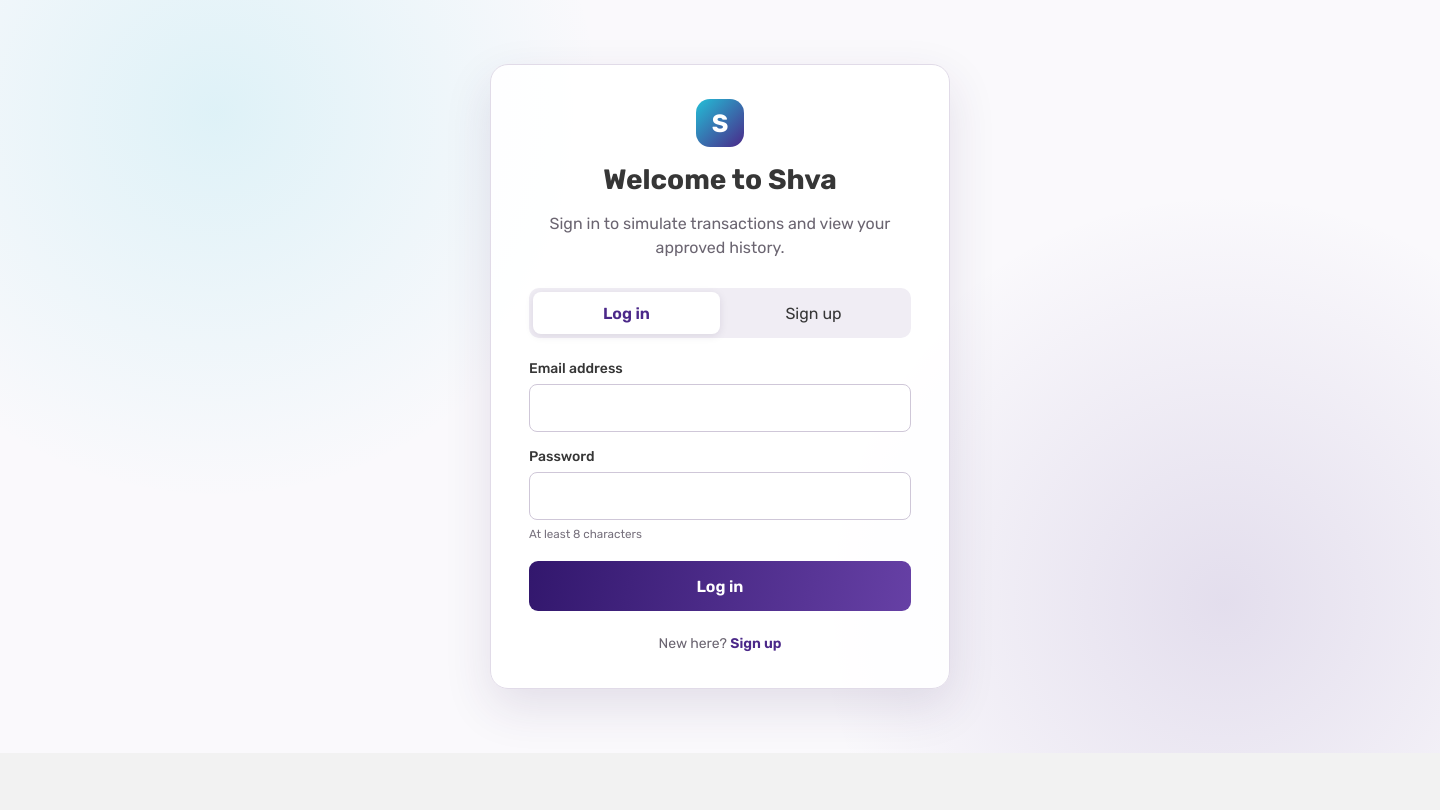
AuthScreen › shows a specific message when the email is already registered
Click the tab "Sign up": (814, 313) left=720, top=292, right=907, bottom=334
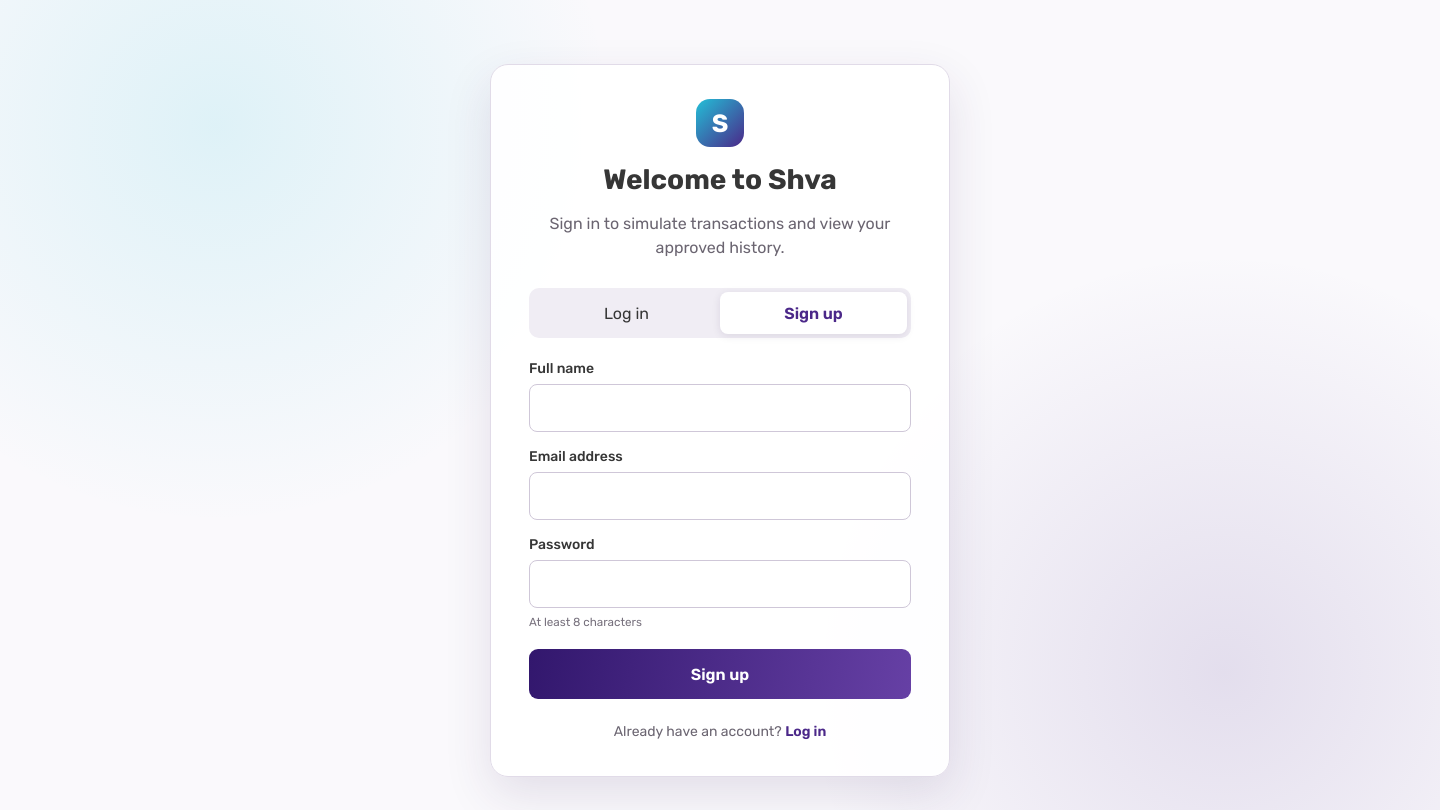
In the field labelled "Full name": (720, 408) left=529, top=384, right=911, bottom=432, type "Existing User"
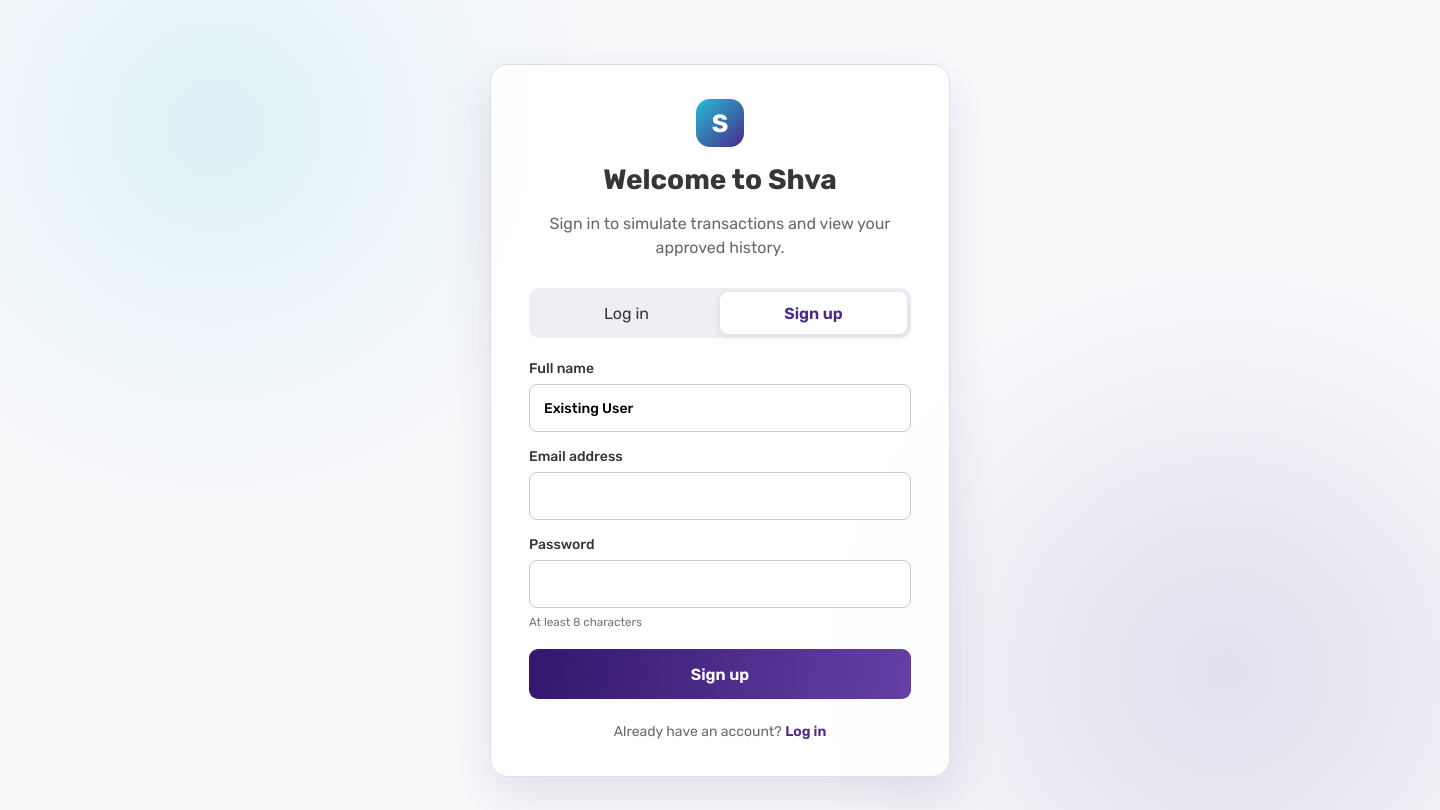
In the field labelled "Email address": (720, 496) left=529, top=472, right=911, bottom=520, type "existing@example.com"
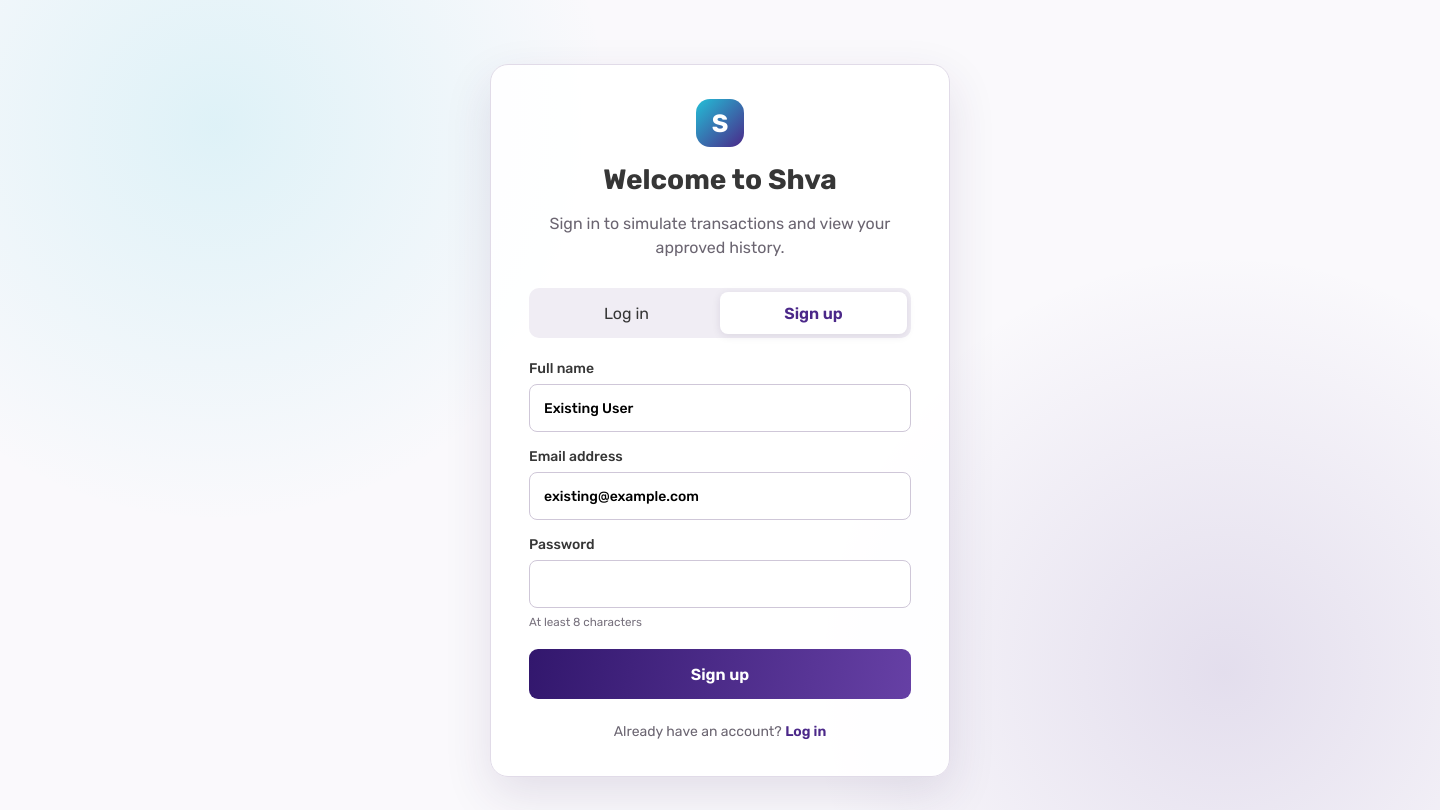
In the password field labelled "Password": (720, 584) left=529, top=560, right=911, bottom=608, type "Password123!"
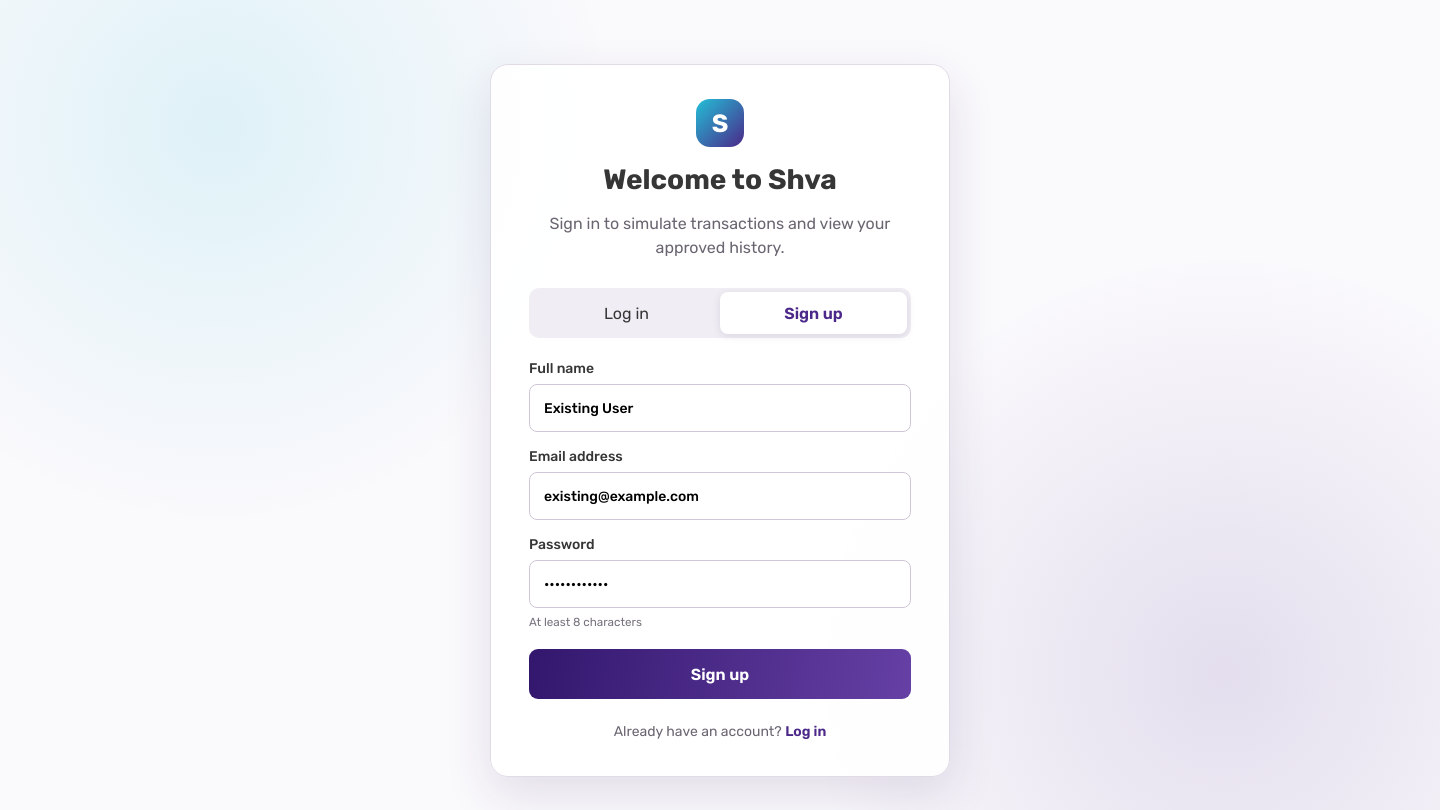
Click the button "Sign up": (720, 674) left=529, top=649, right=911, bottom=699
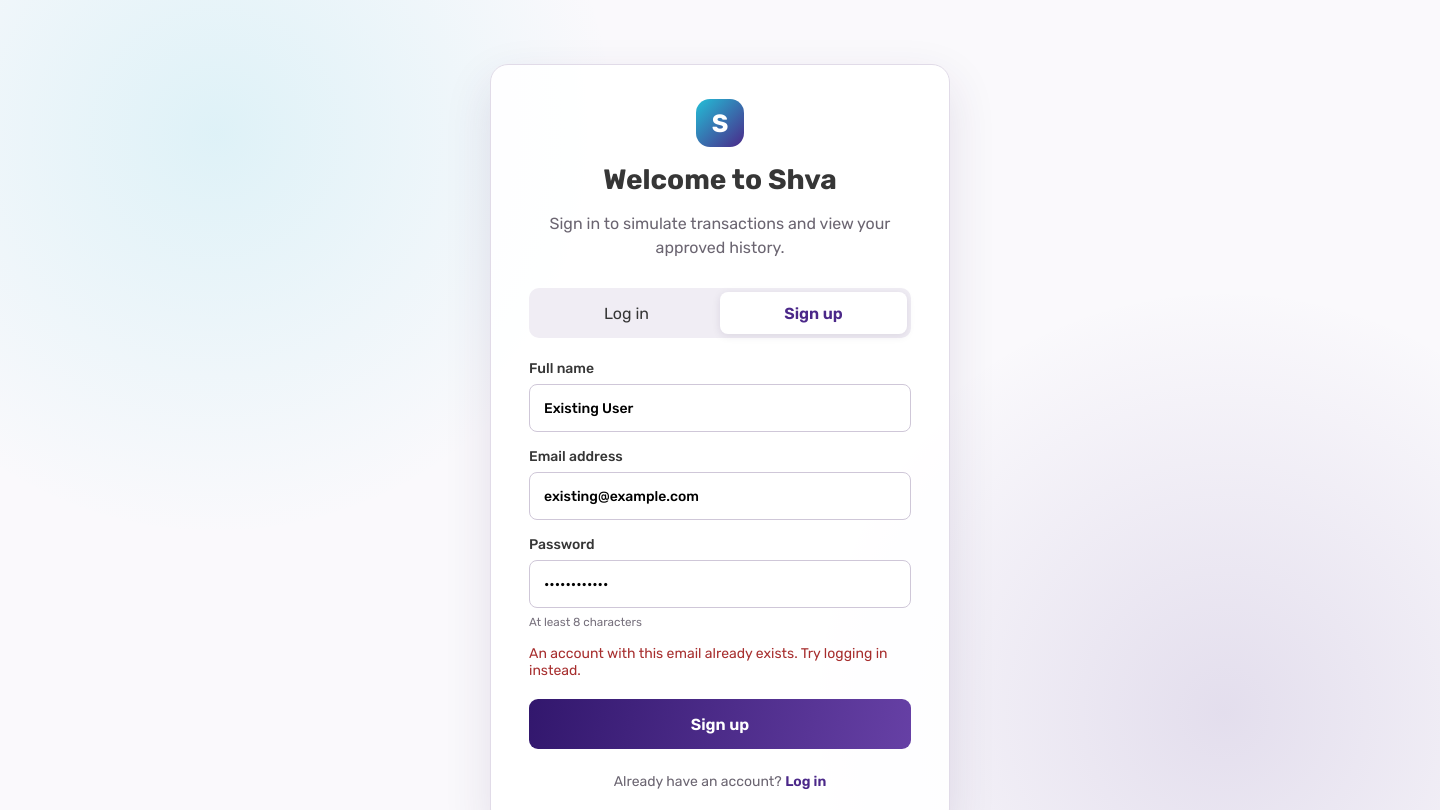
Now the message reads "An account with this email already exists. Try logging in instead.", box left=529, top=645, right=888, bottom=679
